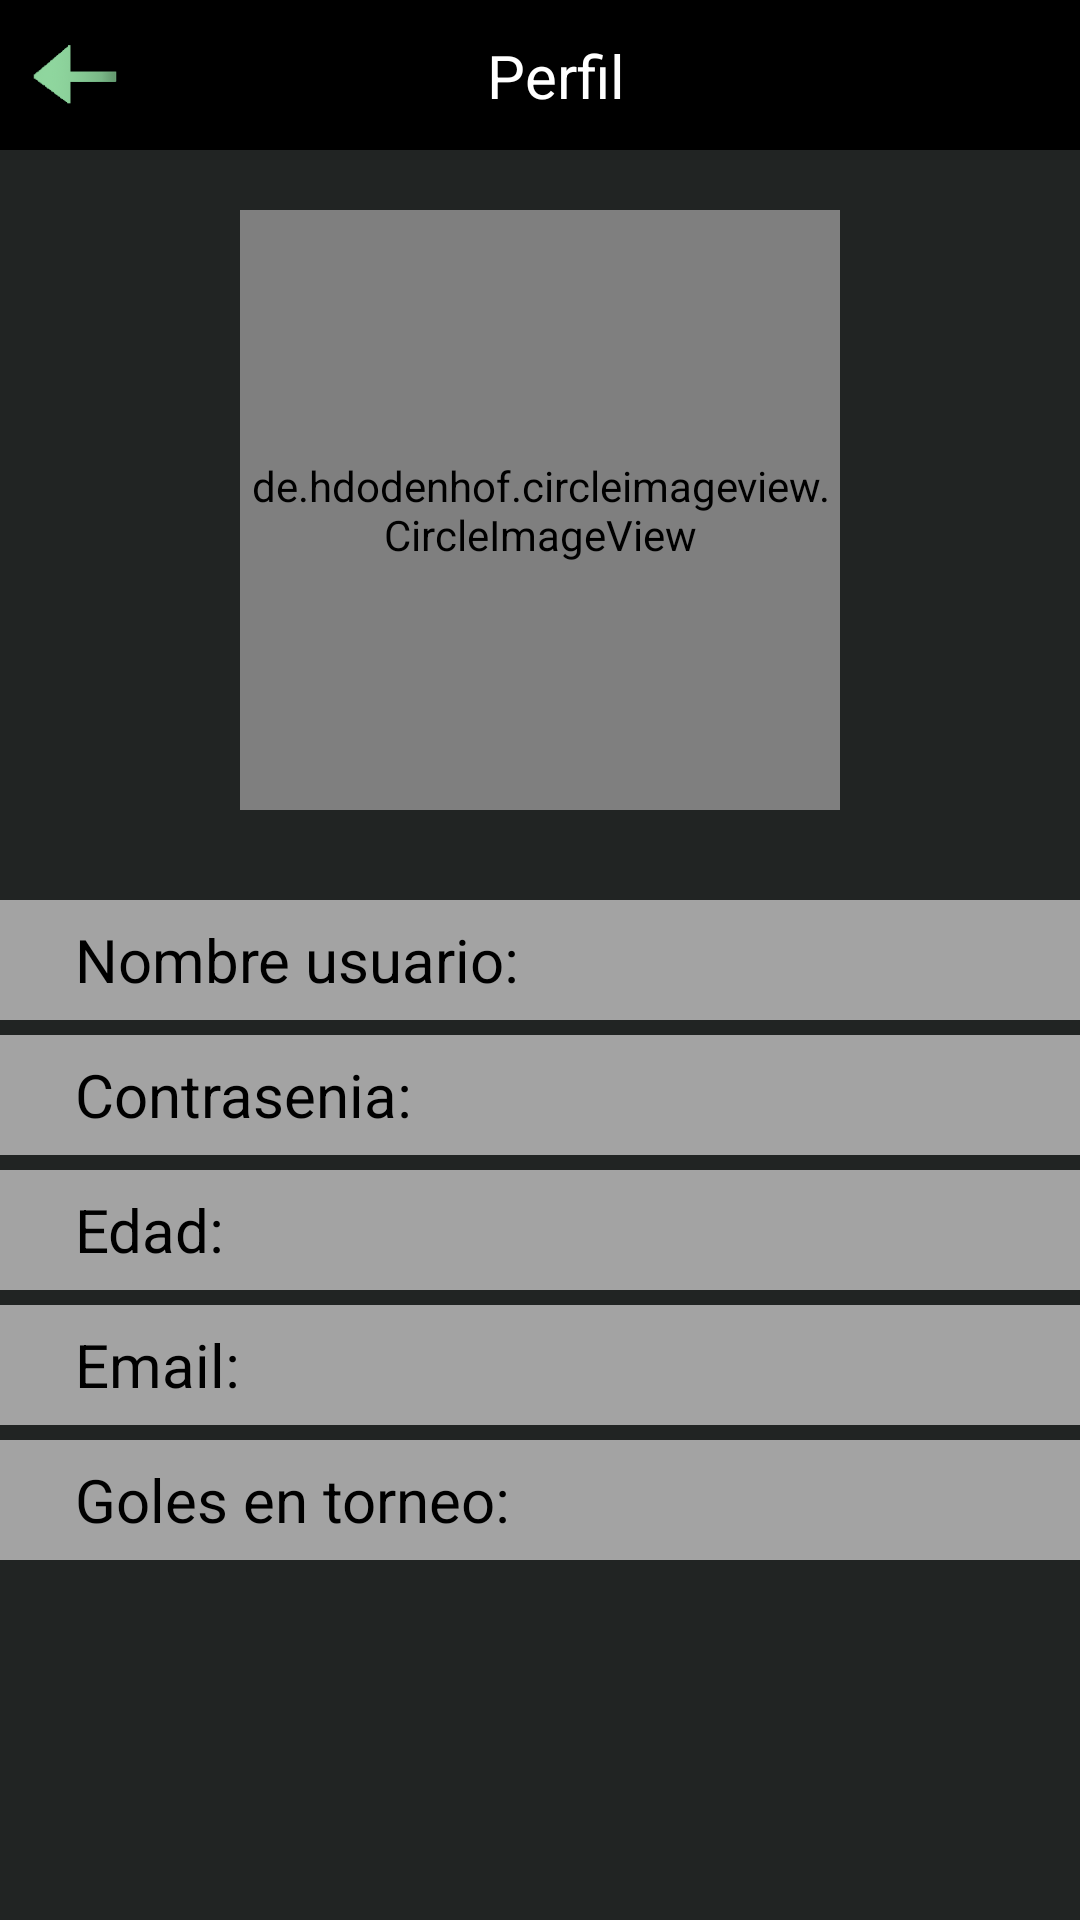

Where icons sit on this 1080w x 1920h app screen, as (x1, y1, x2, y2):
flechita volver: (33, 45, 117, 104)
